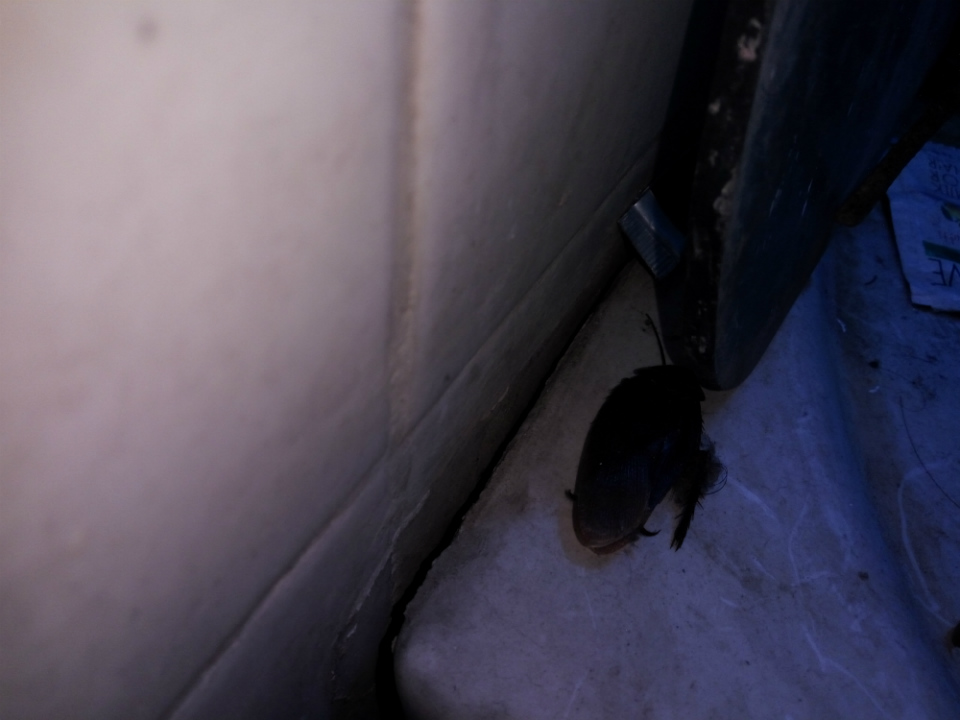cockroach: (557, 319, 721, 575)
